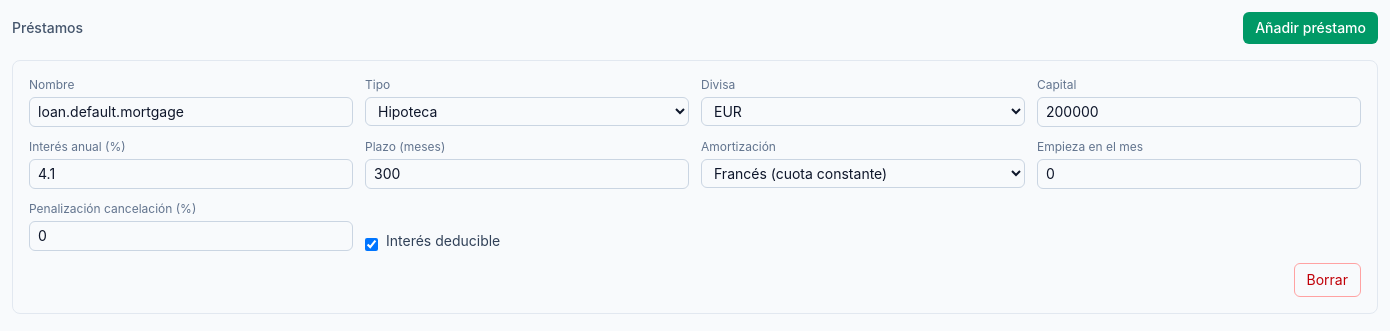
Test: DebtsTab › borrar quita el prestamo del escenario
Click the button "Borrar" at (1327, 280), box x1=1294 y1=263 x2=1361 y2=297
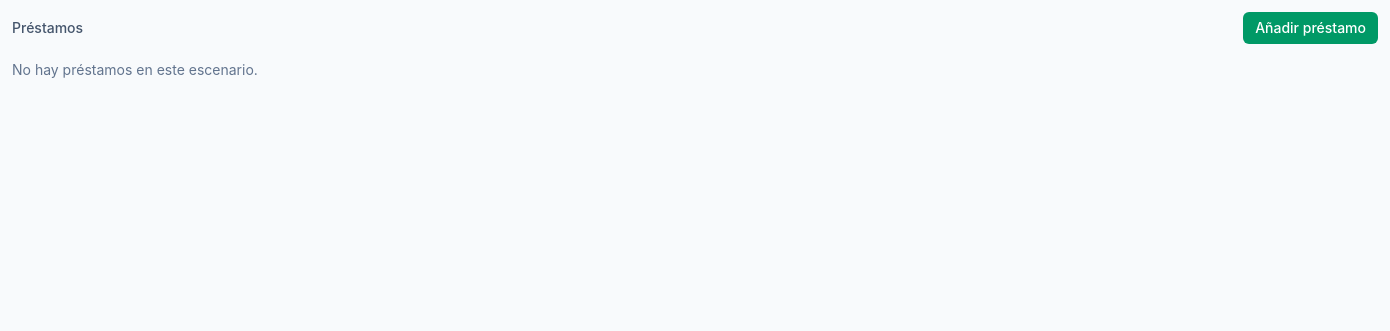
Check: the text "No hay préstamos en este escenario." is shown, box x1=12 y1=61 x2=258 y2=78
